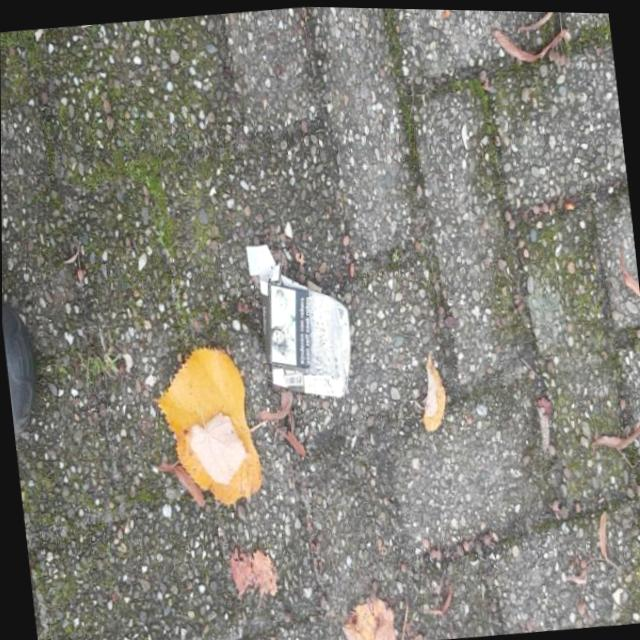Paper: (241, 232, 357, 406)
